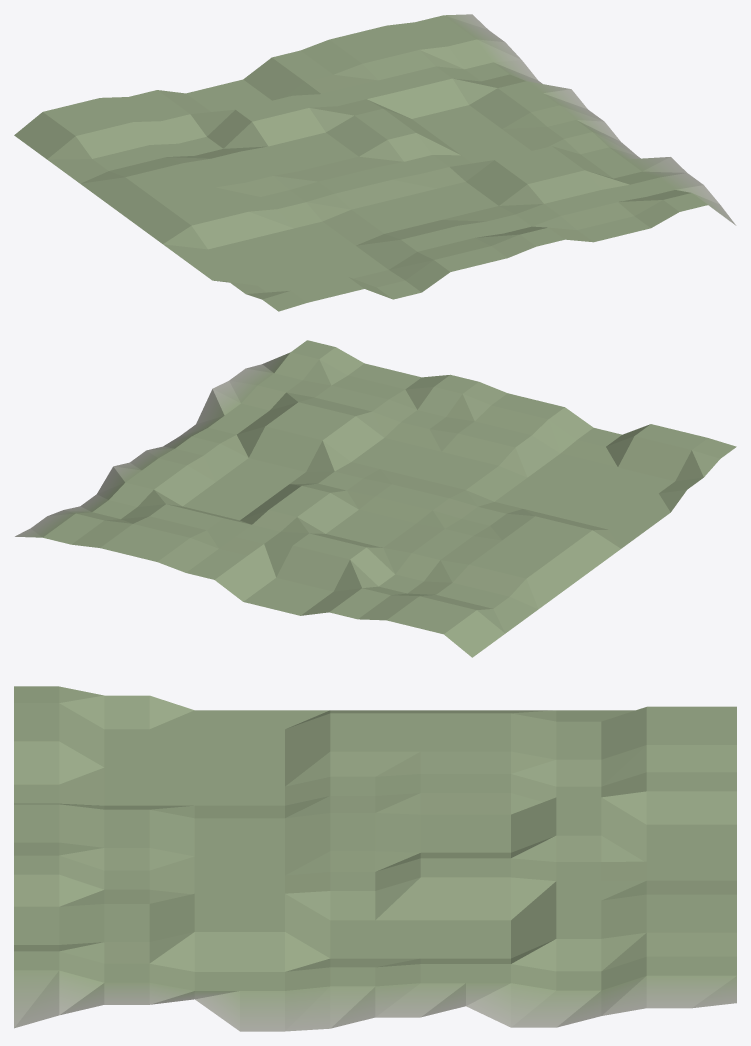
The picture shows the model from 3 angles, top to bottom: view 1: azimuth 30°, elevation 25°; view 2: azimuth 150°, elevation 25°; view 3: azimuth 270°, elevation 25°; orthographic projection. The views are drawn at different scales.
Size of the model in its own units: 32 by 2.11 by 32.
